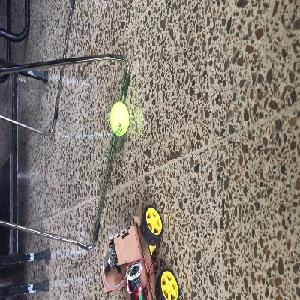Ball: (110, 102, 129, 136)
Robot: (98, 193, 178, 299)
